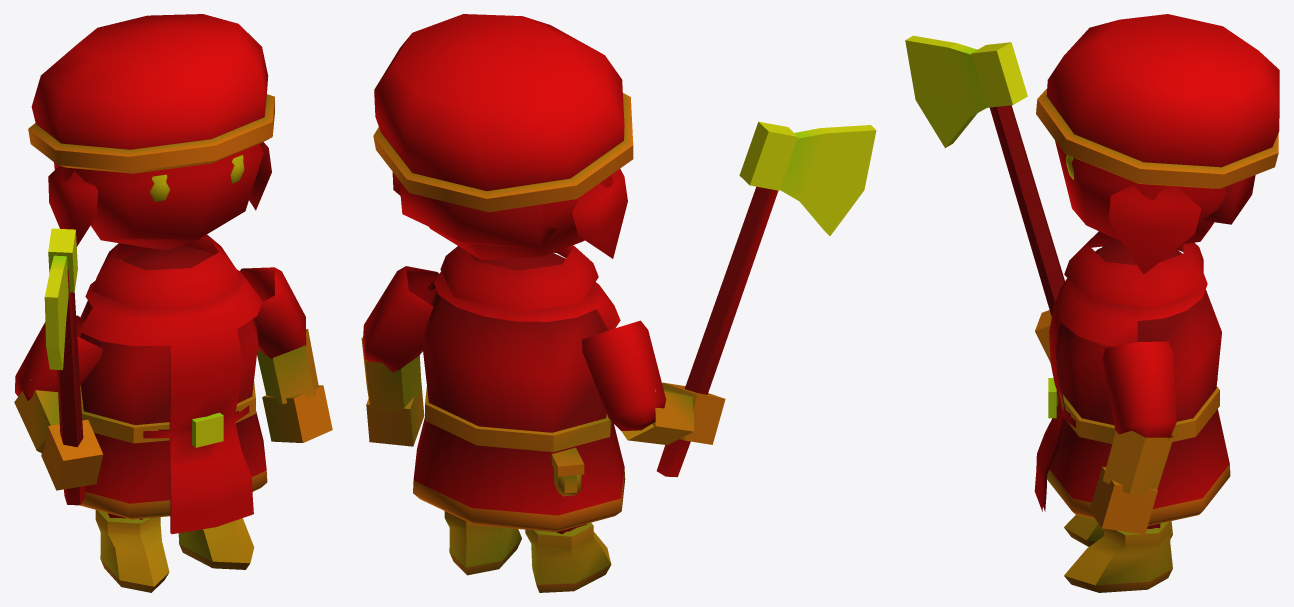
The model's file is Villager_wood_LOD1.glb.
The picture shows the model from 3 angles, left to right: view 1: azimuth 30°, elevation 25°; view 2: azimuth 150°, elevation 25°; view 3: azimuth 270°, elevation 25°; orthographic projection. The views are drawn at different scales.
Visible parts, largest first — view 1: Villager_wood_LOD1; view 2: Villager_wood_LOD1; view 3: Villager_wood_LOD1.
Boxes of the visible parts, x1,y1,x2,y2 form: Villager_wood_LOD1: (14,14,332,592); Villager_wood_LOD1: (361,14,876,592); Villager_wood_LOD1: (905,14,1279,592).
Bounding box in the file's own units: 0.6539 × 0.8425 × 0.542.
